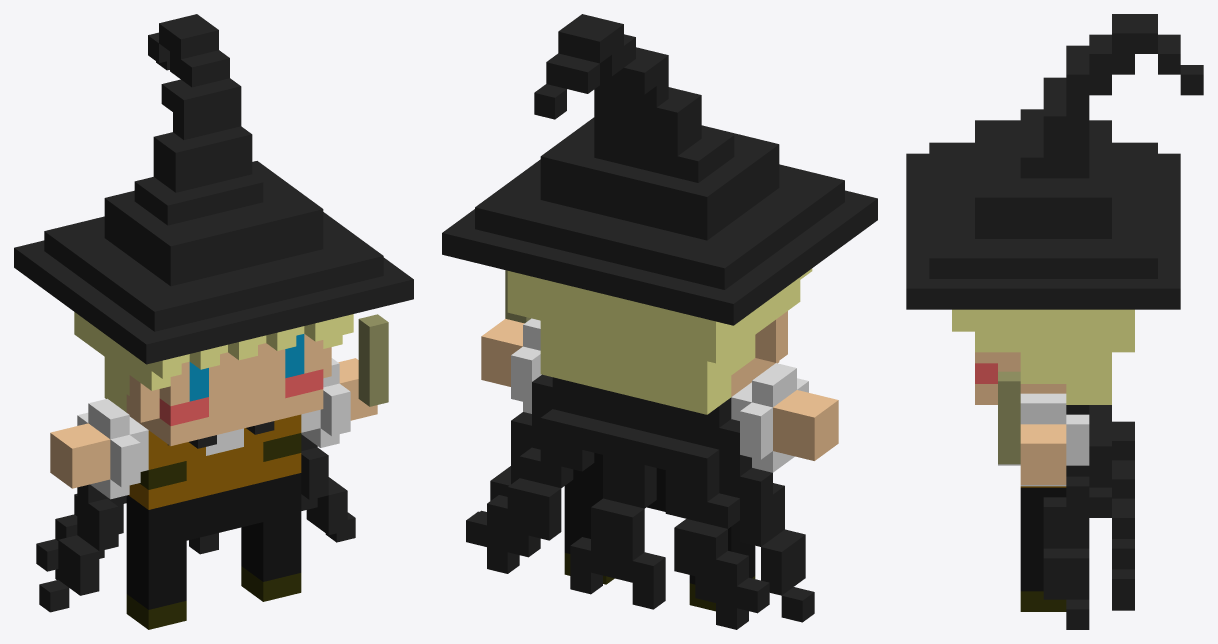
Rendered from character_wizard.obj.
3 renders of one model, left to right at view 1: azimuth 30°, elevation 25°; view 2: azimuth 150°, elevation 25°; view 3: azimuth 270°, elevation 25°, orthographic. The views are drawn at different scales.
Bounding box in the file's own units: 16 × 27 × 13.
Materials: 1 (1 with a texture image).
